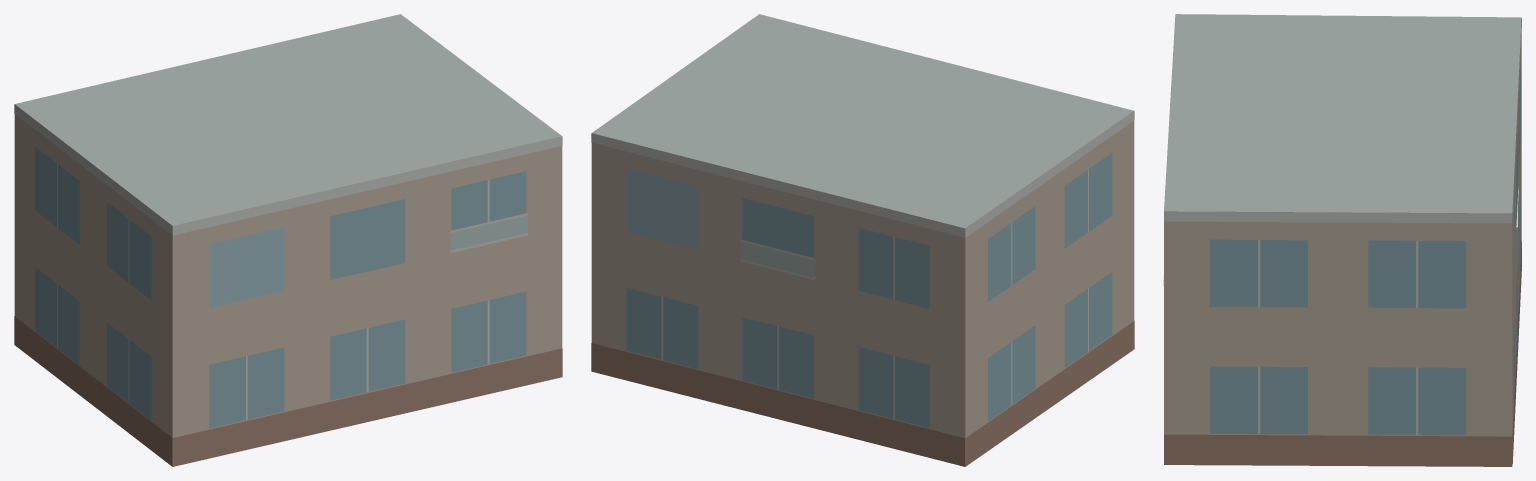
The model's file is survey-upis-33026801.glb.
3 renders of one model, left to right at view 1: azimuth 30°, elevation 25°; view 2: azimuth 150°, elevation 25°; view 3: azimuth 270°, elevation 25°, orthographic. The views are drawn at different scales.
Visible parts, largest first — view 1: survey-upis-33026801.tmp; view 2: survey-upis-33026801.tmp; view 3: survey-upis-33026801.tmp.
Boxes of the visible parts, x1=… form: survey-upis-33026801.tmp: x1=14, y1=14, x2=562, y2=466; survey-upis-33026801.tmp: x1=591, y1=14, x2=1134, y2=466; survey-upis-33026801.tmp: x1=1163, y1=14, x2=1521, y2=466.
Size of the model in its own units: 10.3 by 6.1 by 7.82.
